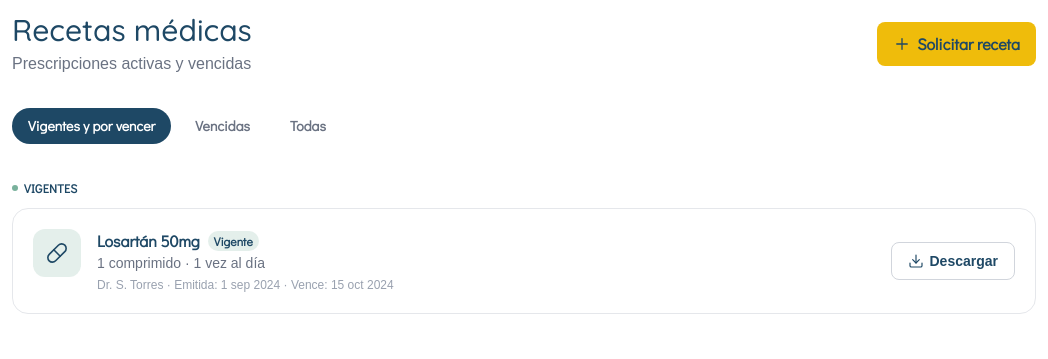
Scenario: RecetasPage with a filter that has no results › shows the empty-filter message when there are no expired prescriptions
Click the tab "Vencidas": (223, 126) [179,108,266,144]
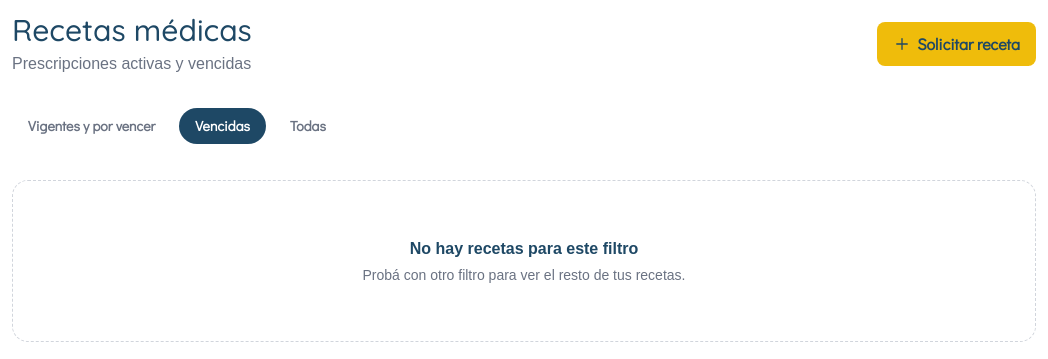
Result: the text "No hay recetas para este filtro" is shown at [410,240,638,257]
